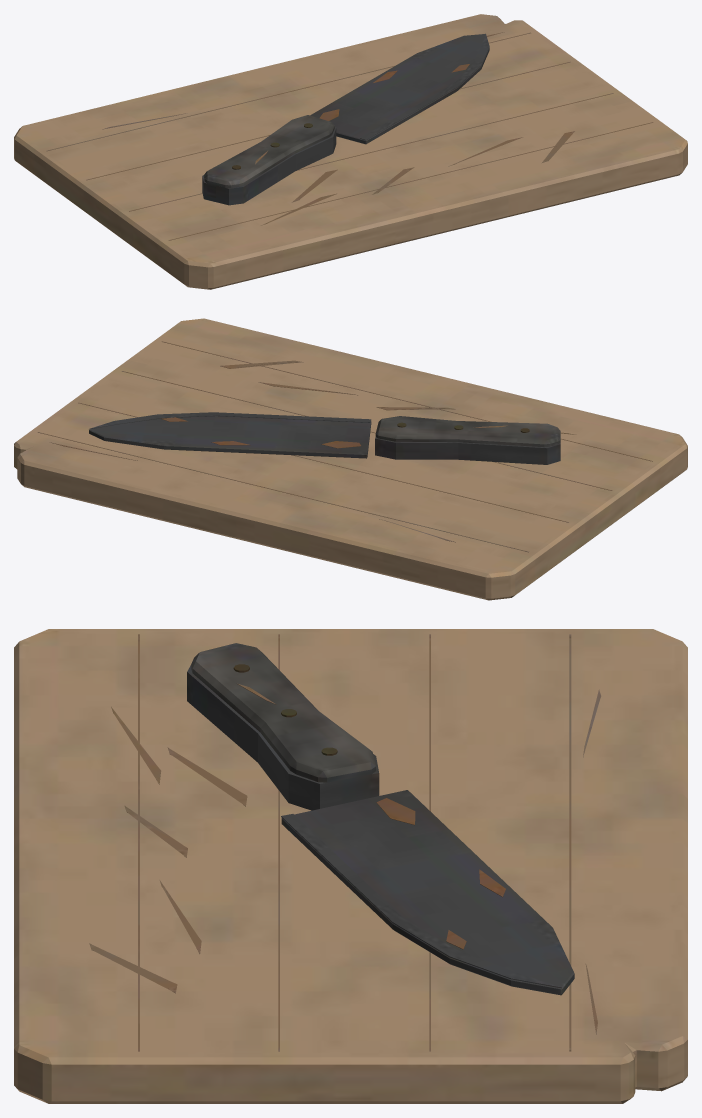
The model's file is K11_cutting_board_and_knife.glb.
The picture shows the model from 3 angles, top to bottom: view 1: azimuth 30°, elevation 25°; view 2: azimuth 150°, elevation 25°; view 3: azimuth 270°, elevation 25°; orthographic projection. The views are drawn at different scales.
Visible parts, largest first — view 1: Thick chipped cutting board; view 2: Thick chipped cutting board; view 3: Thick chipped cutting board.
Boxes of the visible parts, <box> form: Thick chipped cutting board: <box>14,14,687,289</box>; Thick chipped cutting board: <box>14,318,687,600</box>; Thick chipped cutting board: <box>14,629,687,1103</box>.
Size of the model in its own units: 0.4 by 0.0418 by 0.2632.
6 materials, 6 textured.
